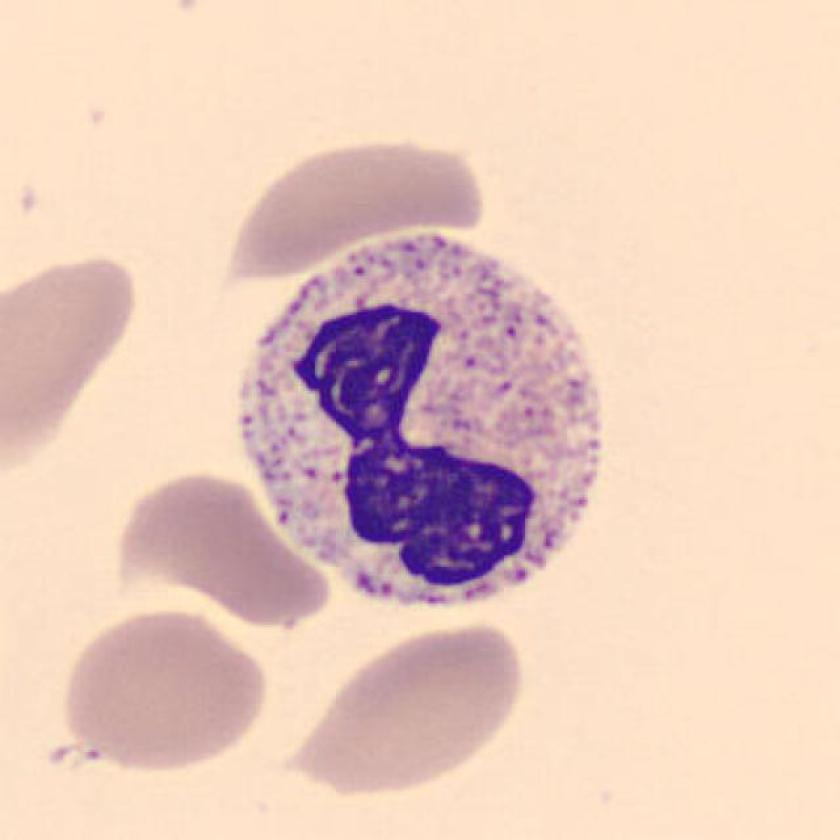neutrophil: (239, 233, 609, 610)
